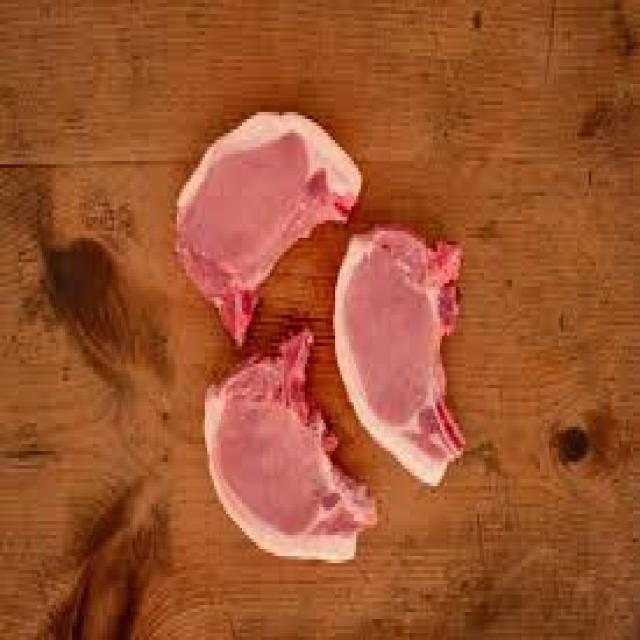pork: (177, 112, 363, 346), (205, 332, 377, 561), (335, 231, 468, 484)
